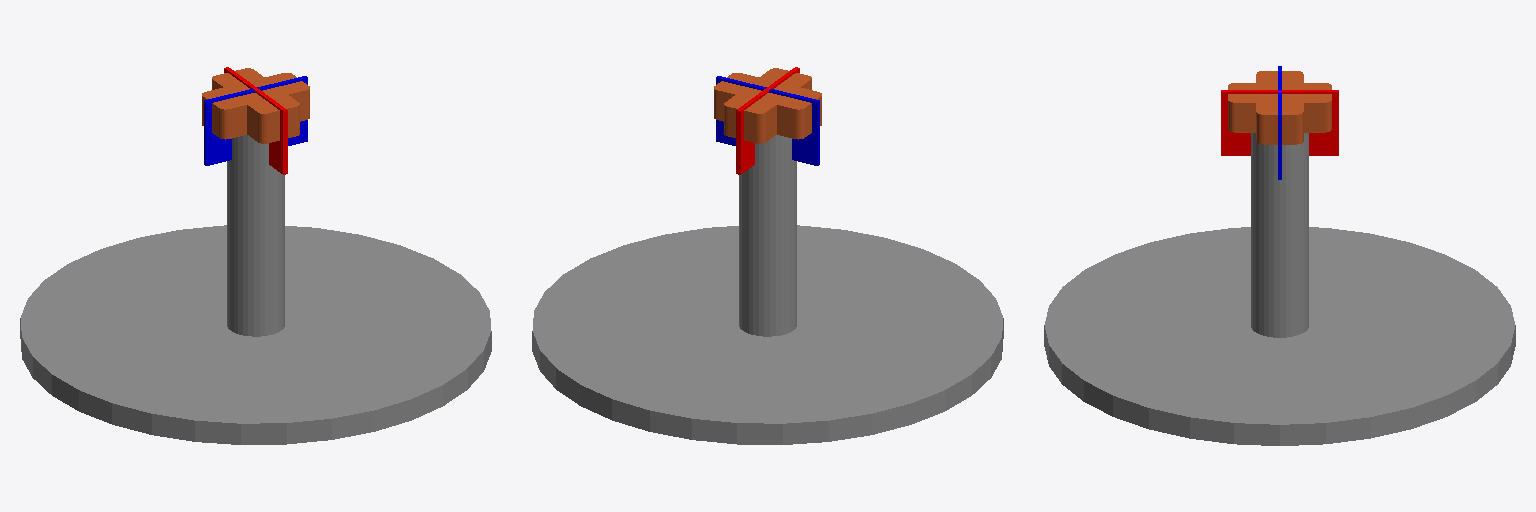
The robot description file, URDF, robot "screw_with_nut":
<?xml version="1.0"?>
<robot name="screw_with_nut">
  <!-- Base: Wide cylinder with hole -->
  <link name="base">
    <visual>
      <origin xyz="0 0 0" />
      <geometry>
        <cylinder radius="0.1" length="0.01" />
      </geometry>
      <material name="base_material">
        <color rgba="0.6 0.6 0.6 1" />
      </material>
    </visual>
    <collision>
      <origin xyz="0 0 0" />
      <geometry>
        <cylinder radius="0.1" length="0.01" />
      </geometry>
    </collision>
    <inertial>
      <mass value="10.0" />
      <origin xyz="0 0 0" />
      <inertia ixx="0.02508" ixy="0.0" ixz="0.0" iyy="0.02508" iyz="0.0" izz="0.05" />
    </inertial>
  </link>

  <!-- Bolt rigidly attached to base -->
  <link name="bolt">
    <visual>
      <origin xyz="0 0 0.05" />
      <geometry>
        <cylinder radius="0.0125" length="0.1" />
      </geometry>
      <material name="bolt_material">
        <color rgba="0.6 0.6 0.6 1" />
      </material>
    </visual>
    <collision>
      <origin xyz="0 0 0.05" />
      <geometry>
        <cylinder radius="0.0125" length="0.1" />
      </geometry>
    </collision>
    <inertial>
      <mass value="0.05" />
      <origin xyz="0 0 0.05" />
      <inertia ixx="0.0000420" ixy="0.0" ixz="0.0" iyy="0.0000420" iyz="0.0" izz="0.000000625" />
    </inertial>
  </link>

  <!-- Nut: a small cross that will rotate around the screw -->
  <link name="nut">
    <visual>
      <origin xyz="0 0 0"/>
      <geometry>
        <mesh filename="../meshes/cross.stl"/>
      </geometry>
      <material name="nut_material">
        <color rgba="0.8 0.4 0.2 1"/>
      </material>
    </visual>
    <collision>
      <origin xyz="0 0 0"/>
      <geometry>
        <mesh filename="../meshes/cross.stl"/>
      </geometry>
    </collision>
    <inertial>
      <mass value="0.05"/>
      <origin xyz="0 0 0"/>
      <inertia ixx="0.000007448" iyy="0.000007448" izz="0.000013021" ixy="0" ixz="0" iyz="0"/>
    </inertial>
    <!-- Red stripe on nut -->
    <visual>
      <origin xyz="0 0 0" rpy="0 0 0"/>
      <geometry>
        <!-- thin box wrapping around the cylinder -->
        <box size="0.002 0.05 0.03"/>
      </geometry>
      <material name="stripe_red">
        <color rgba="1 0 0 1"/>
      </material>
    </visual>

    <!-- Blue stripe on nut -->
    <visual>
      <origin xyz="0 0 0" rpy="0 0 1.5708"/>
      <geometry>
        <box size="0.002 0.05 0.03"/>
      </geometry>
      <material name="stripe_blue">
        <color rgba="0 0 1 1"/>
      </material>
    </visual>
  </link>

  <!-- Fixed joint -->
  <joint name="base_screw_fixed" type="fixed">
    <parent link="base" />
    <child  link="bolt" />
    <origin xyz="0 0 0" rpy="0 0 0" />
  </joint>

  <!-- Revolute joint -->
  <joint name="nut_joint" type="revolute">
    <parent link="bolt" />
    <child  link="nut" />
    <origin xyz="0 0 0.1" rpy="0 0 0"/>
    <axis  xyz="0 0 -1" />
    <dynamics friction="0.2"/>
    <limit lower="0.0" upper="628.3185" effort="2.0" velocity="6.2832" /> <!-- 100 rotations -->
  </joint>
</robot>

--- What the picture shows (computed from the rendered views, not written in the file) ---
3 views of the same robot in one strip: view 1: azimuth 30°, elevation 25°; view 2: azimuth 150°, elevation 25°; view 3: azimuth 270°, elevation 25° (orthographic).
Robot: screw_with_nut — 3 links, 2 joints (1 revolute, 1 fixed); root link base; default pose: all joints at 0.
Visible links, largest first — view 1: base, bolt, nut; view 2: base, bolt, nut; view 3: base, bolt, nut.
Link boxes in pixels (x1,y1,x2,y2): base: (20, 225, 491, 444); bolt: (227, 135, 284, 336); nut: (202, 67, 309, 174); base: (532, 225, 1003, 444); bolt: (739, 135, 796, 336); nut: (714, 67, 821, 174); base: (1044, 227, 1515, 445); bolt: (1251, 133, 1308, 337); nut: (1221, 66, 1338, 179).
Size in the robot's own frame: 0.2 by 0.2 by 0.12 metres.
1 mesh visuals loaded from 1 distinct referenced files (1 binary STL).